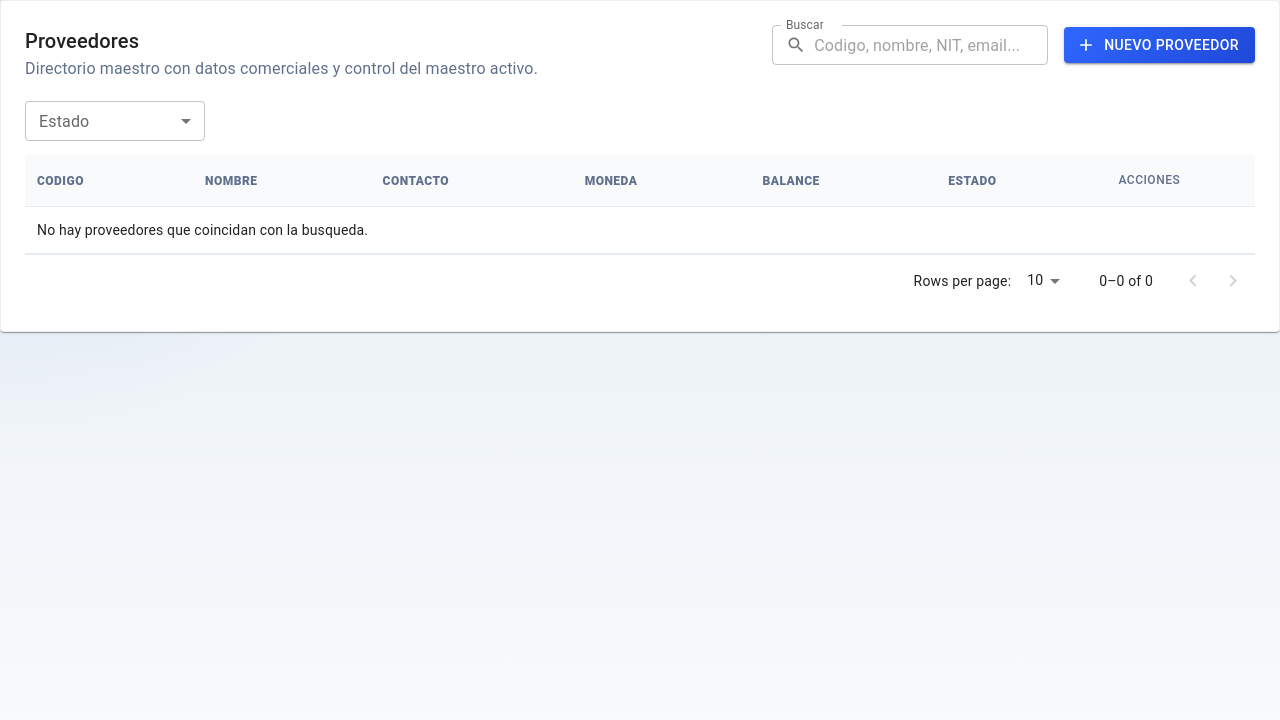
ProveedoresScreen › bloquea el submit cuando el formulario tiene errores de formato
Click the button "Nuevo proveedor" at point(1160, 45), box [1064, 27, 1255, 63]
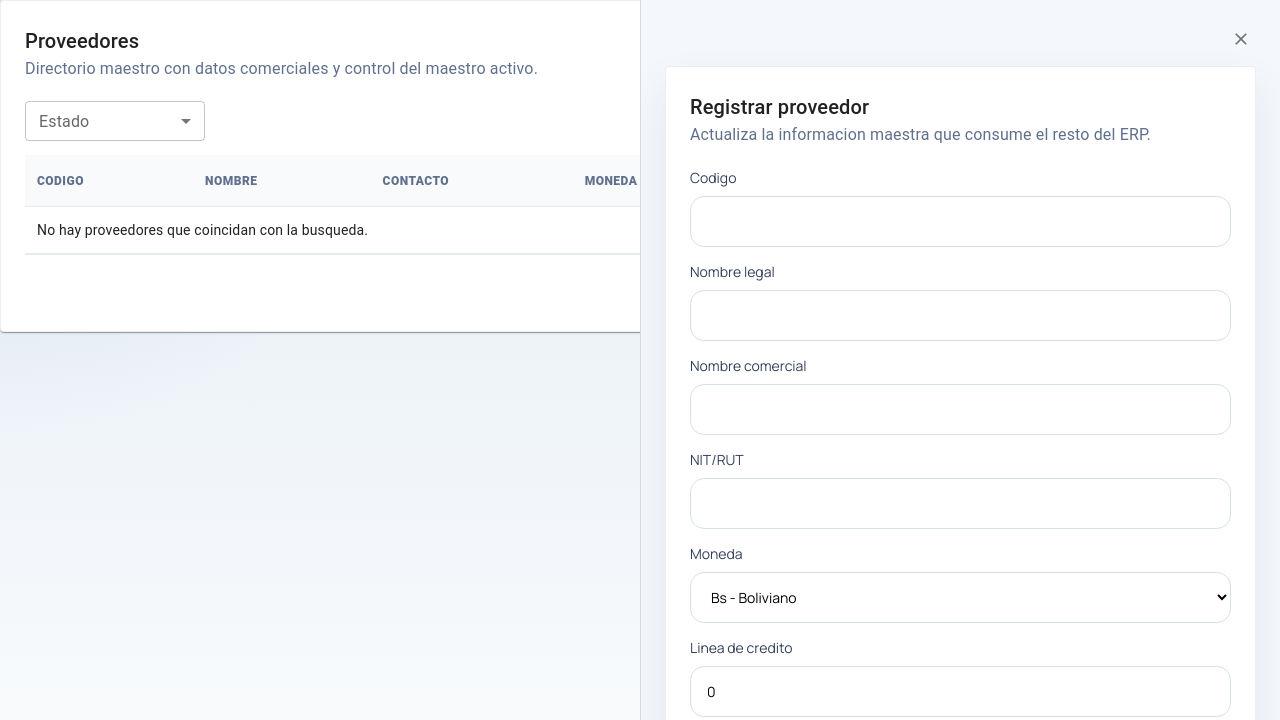
Type "P" into the field labelled "Codigo" at point(960, 222), box [690, 196, 1231, 247]
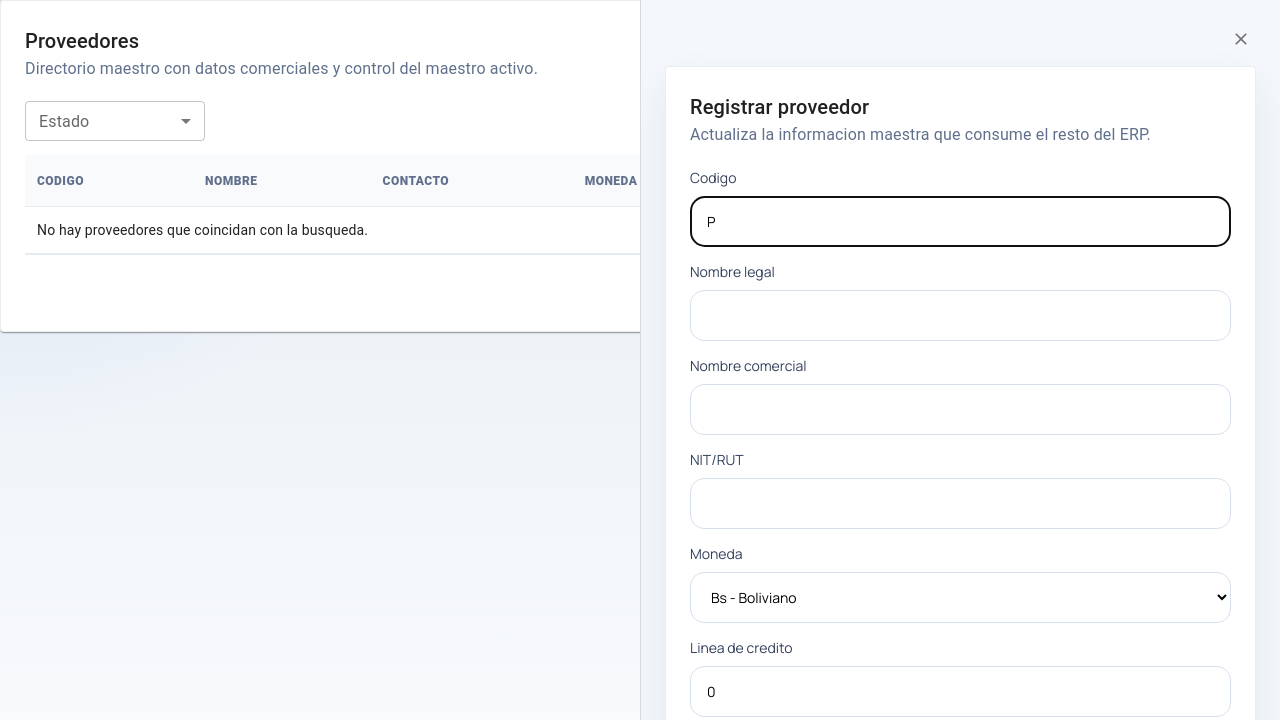
Type "AB" into the field labelled "Nombre legal" at point(960, 316), box [690, 290, 1231, 341]
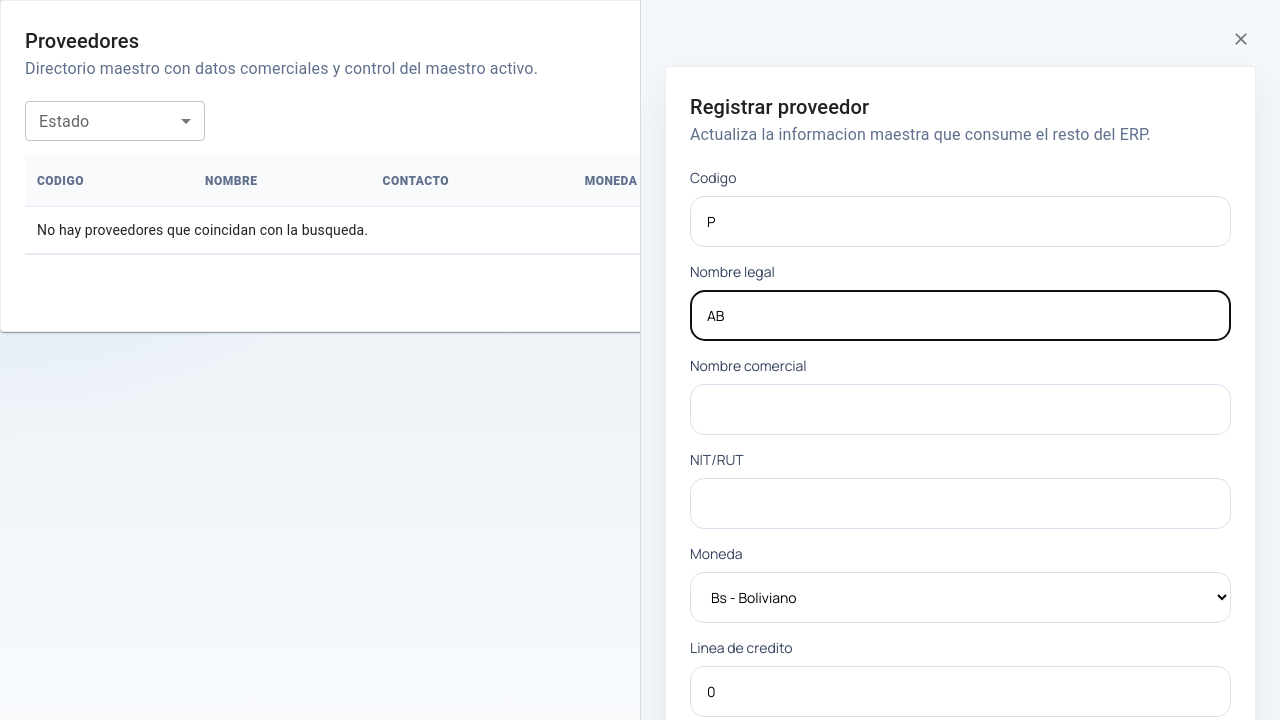
Type "12" into the field labelled "NIT/RUT" at point(960, 504), box [690, 478, 1231, 529]
(page scrolled)
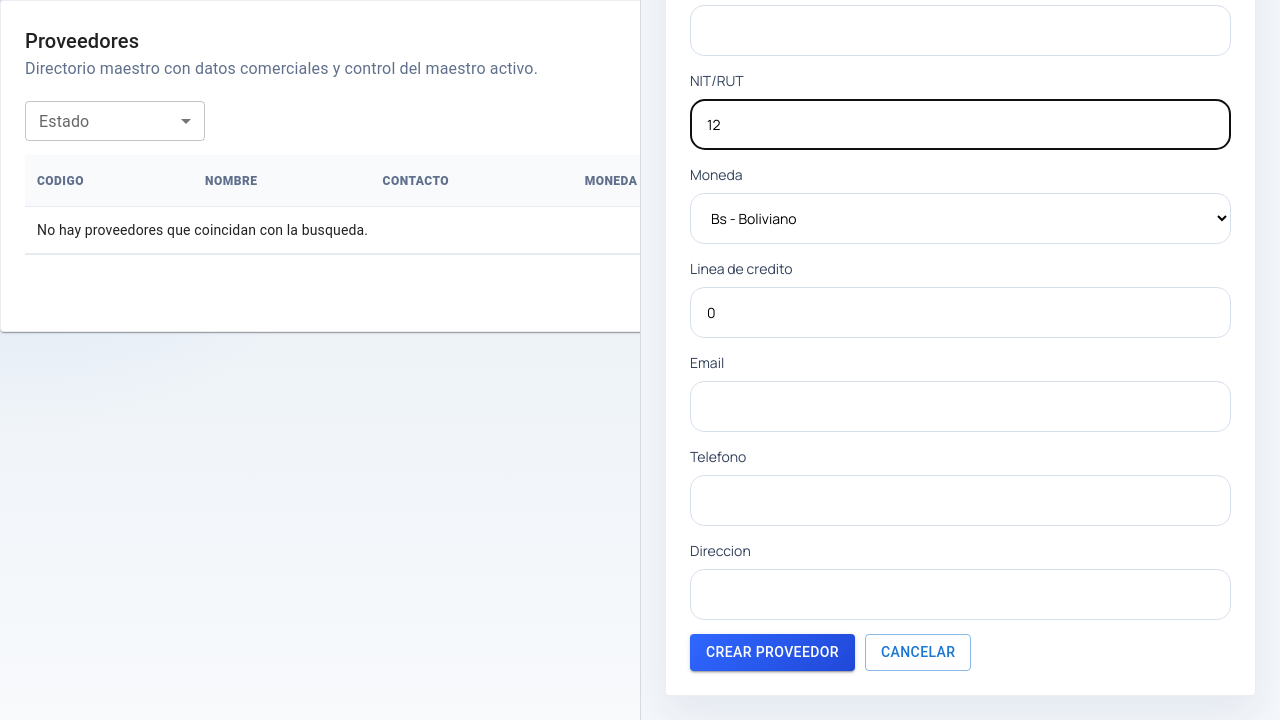
Type "correo-invalido" into the field labelled "Email" at point(960, 406), box [690, 381, 1231, 432]
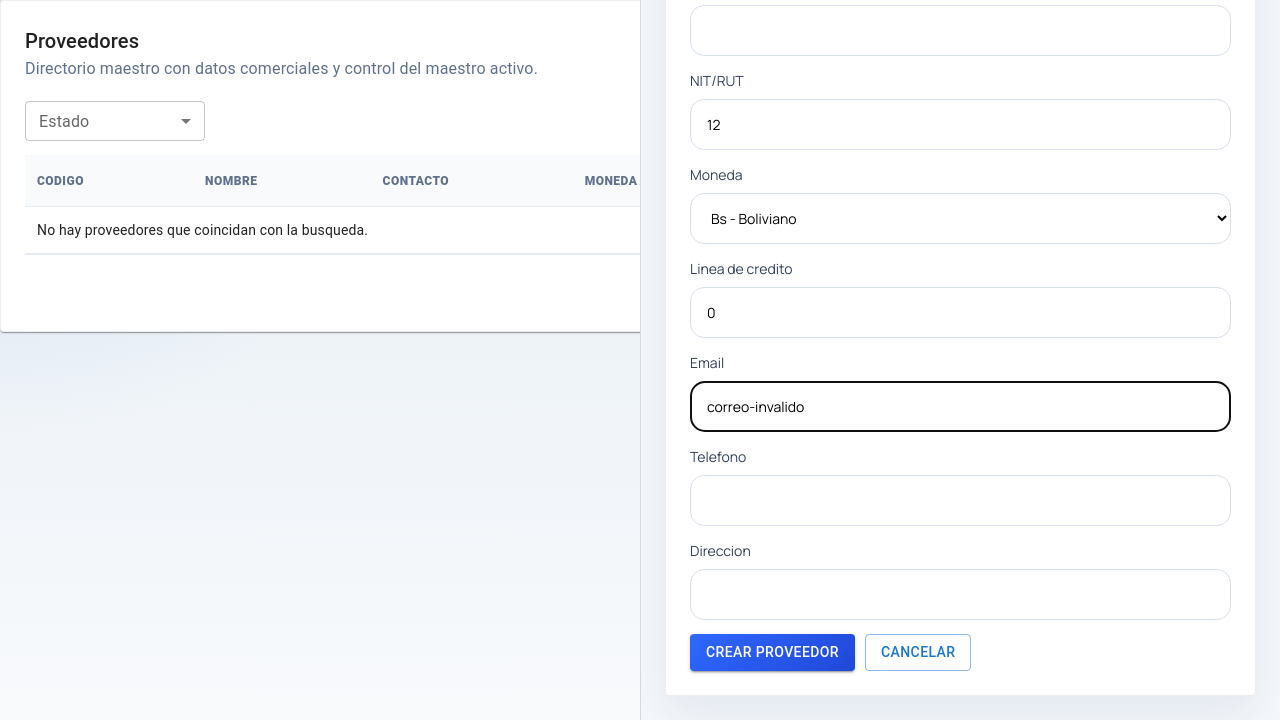
Click the button "Crear proveedor" at point(772, 652), box [690, 634, 855, 670]
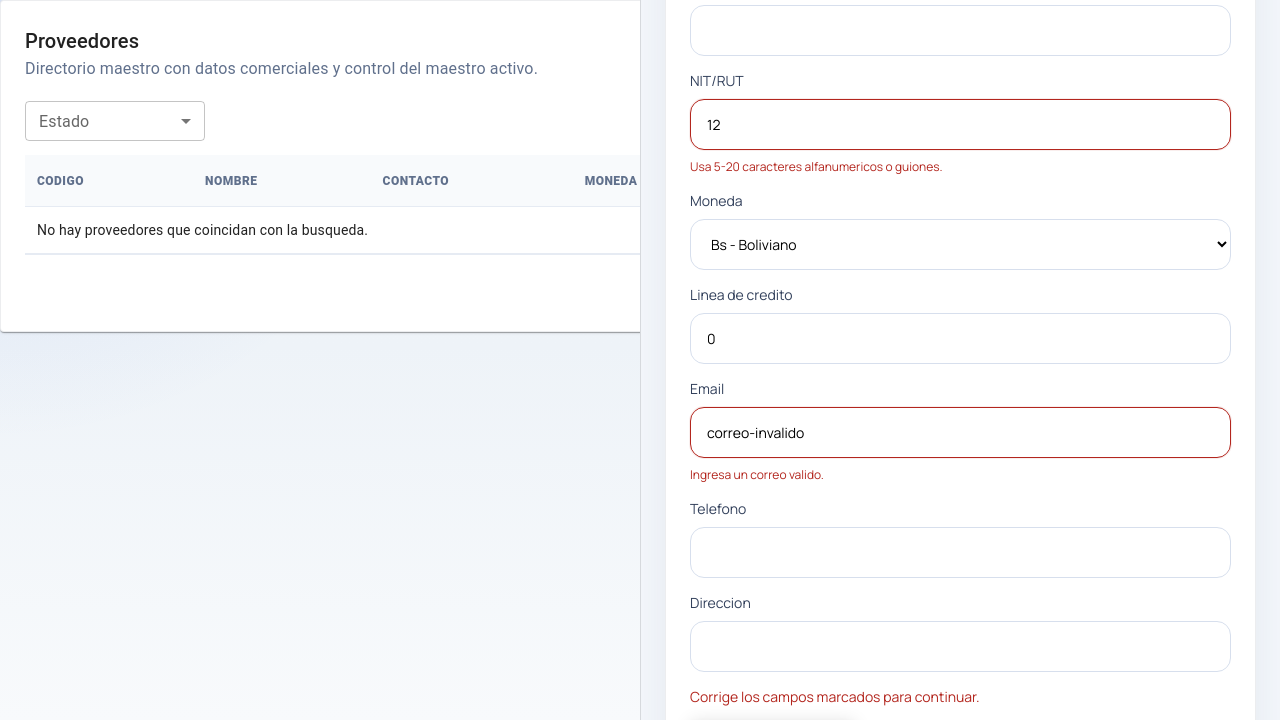
Expected: the text "Usa 5-20 caracteres alfanumericos o guiones." is shown, [690, 158, 942, 175]
Expected: the text "Ingresa un correo valido." is shown, [690, 466, 824, 483]
